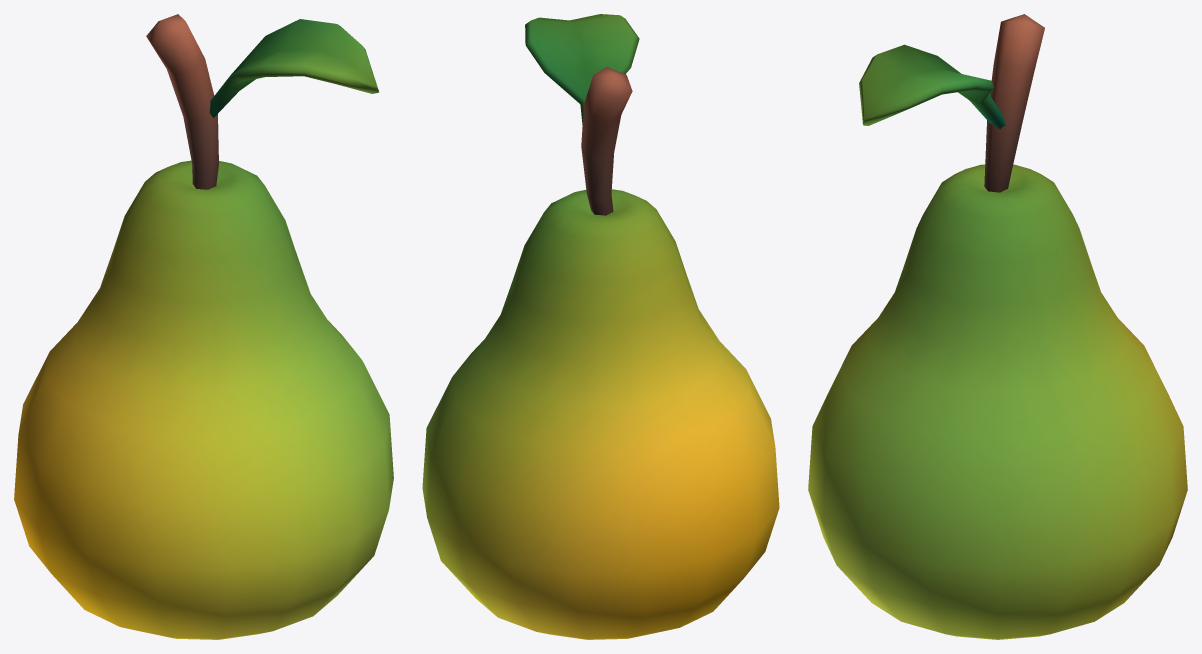
3 views of the same model, side by side, from view 1: azimuth 30°, elevation 25°; view 2: azimuth 150°, elevation 25°; view 3: azimuth 270°, elevation 25° (orthographic). The views are drawn at different scales.
Visible parts, largest first — view 1: 7-5; view 2: 7-5; view 3: 7-5.
Boxes of the visible parts, x1,y1,x2,y2 form: 7-5: [14, 14, 393, 639]; 7-5: [422, 14, 779, 639]; 7-5: [808, 14, 1187, 639].
Bounding box in the file's own units: 8.79 × 14.71 × 8.79.
